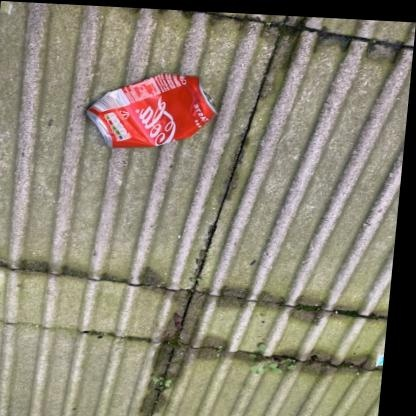trash: (86, 73, 215, 147)
